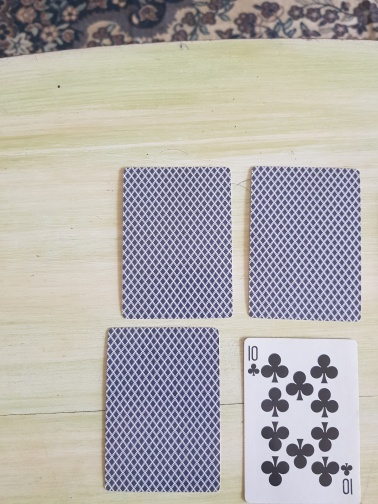ten: (243, 336, 362, 504)
